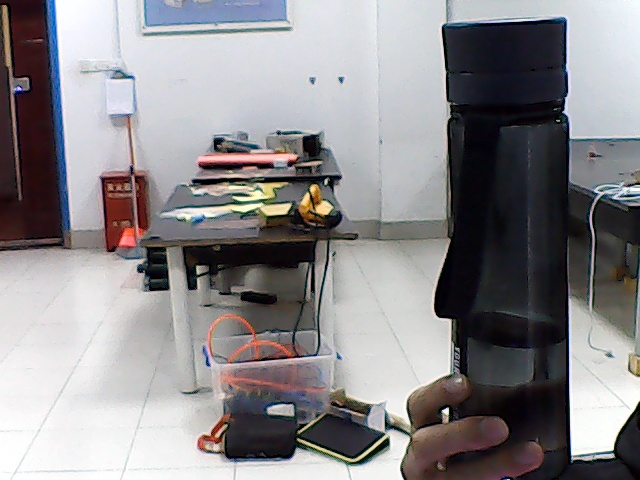cup: (446, 44, 562, 366)
